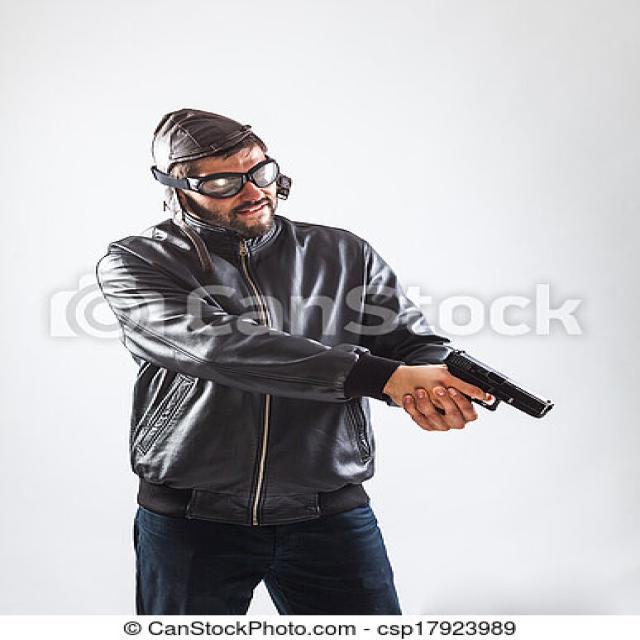HandGun: (443, 350, 554, 419)
